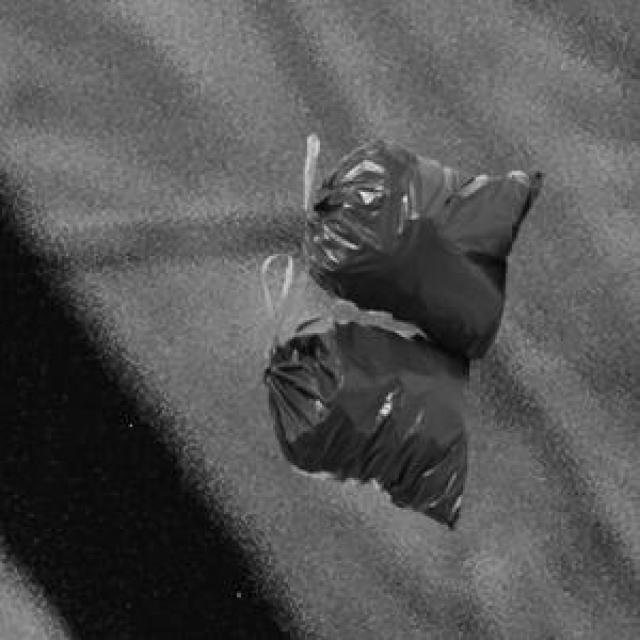miscellaneous trash: (260, 130, 538, 527)
